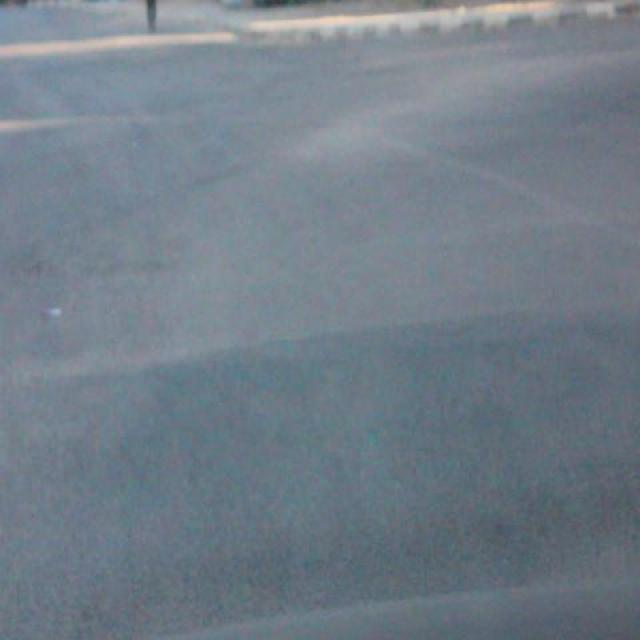Unmarked Bump: (1, 310, 638, 640)
